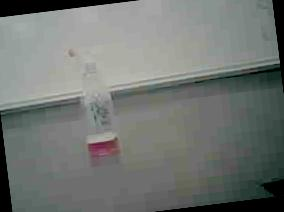hazard: (58, 42, 126, 167)
